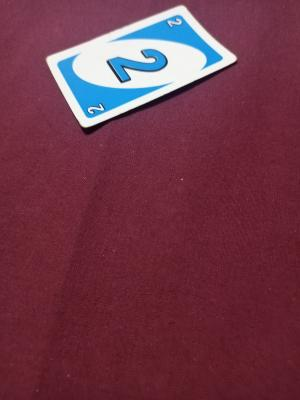blue: (66, 53, 215, 83)
num_2: (82, 101, 107, 117)
